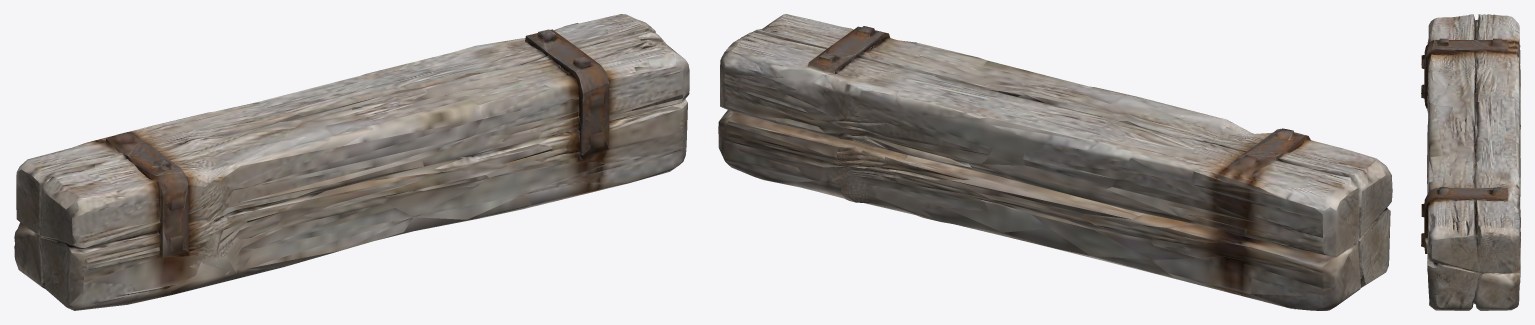
File: timber.glb
3 renders of one model, left to right at view 1: azimuth 30°, elevation 25°; view 2: azimuth 150°, elevation 25°; view 3: azimuth 270°, elevation 25°, orthographic. The views are drawn at different scales.
Visible parts, largest first — view 1: Mesh_0; view 2: Mesh_0; view 3: Mesh_0.
Boxes of the visible parts, x1,y1,x2,y2 form: Mesh_0: (14, 14, 689, 310); Mesh_0: (718, 14, 1392, 310); Mesh_0: (1421, 14, 1520, 310).
Size of the model in its own units: 1.9 by 0.3767 by 0.3667.
1 material, 1 textured.
